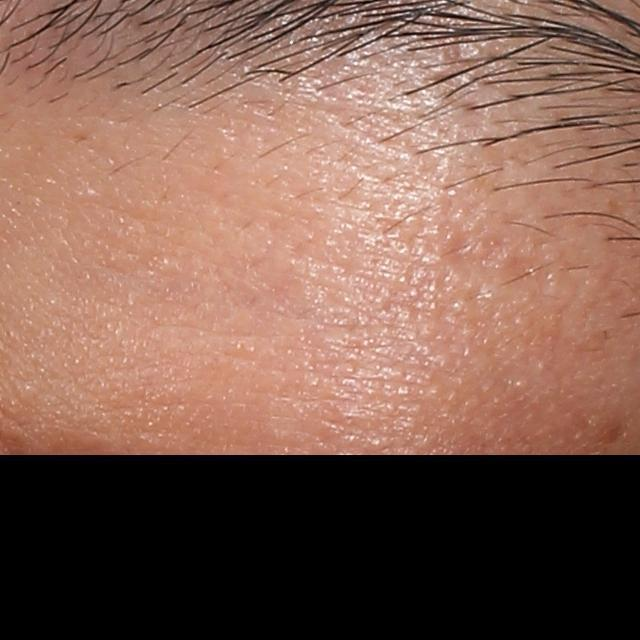melasma: (591, 413, 629, 453)
